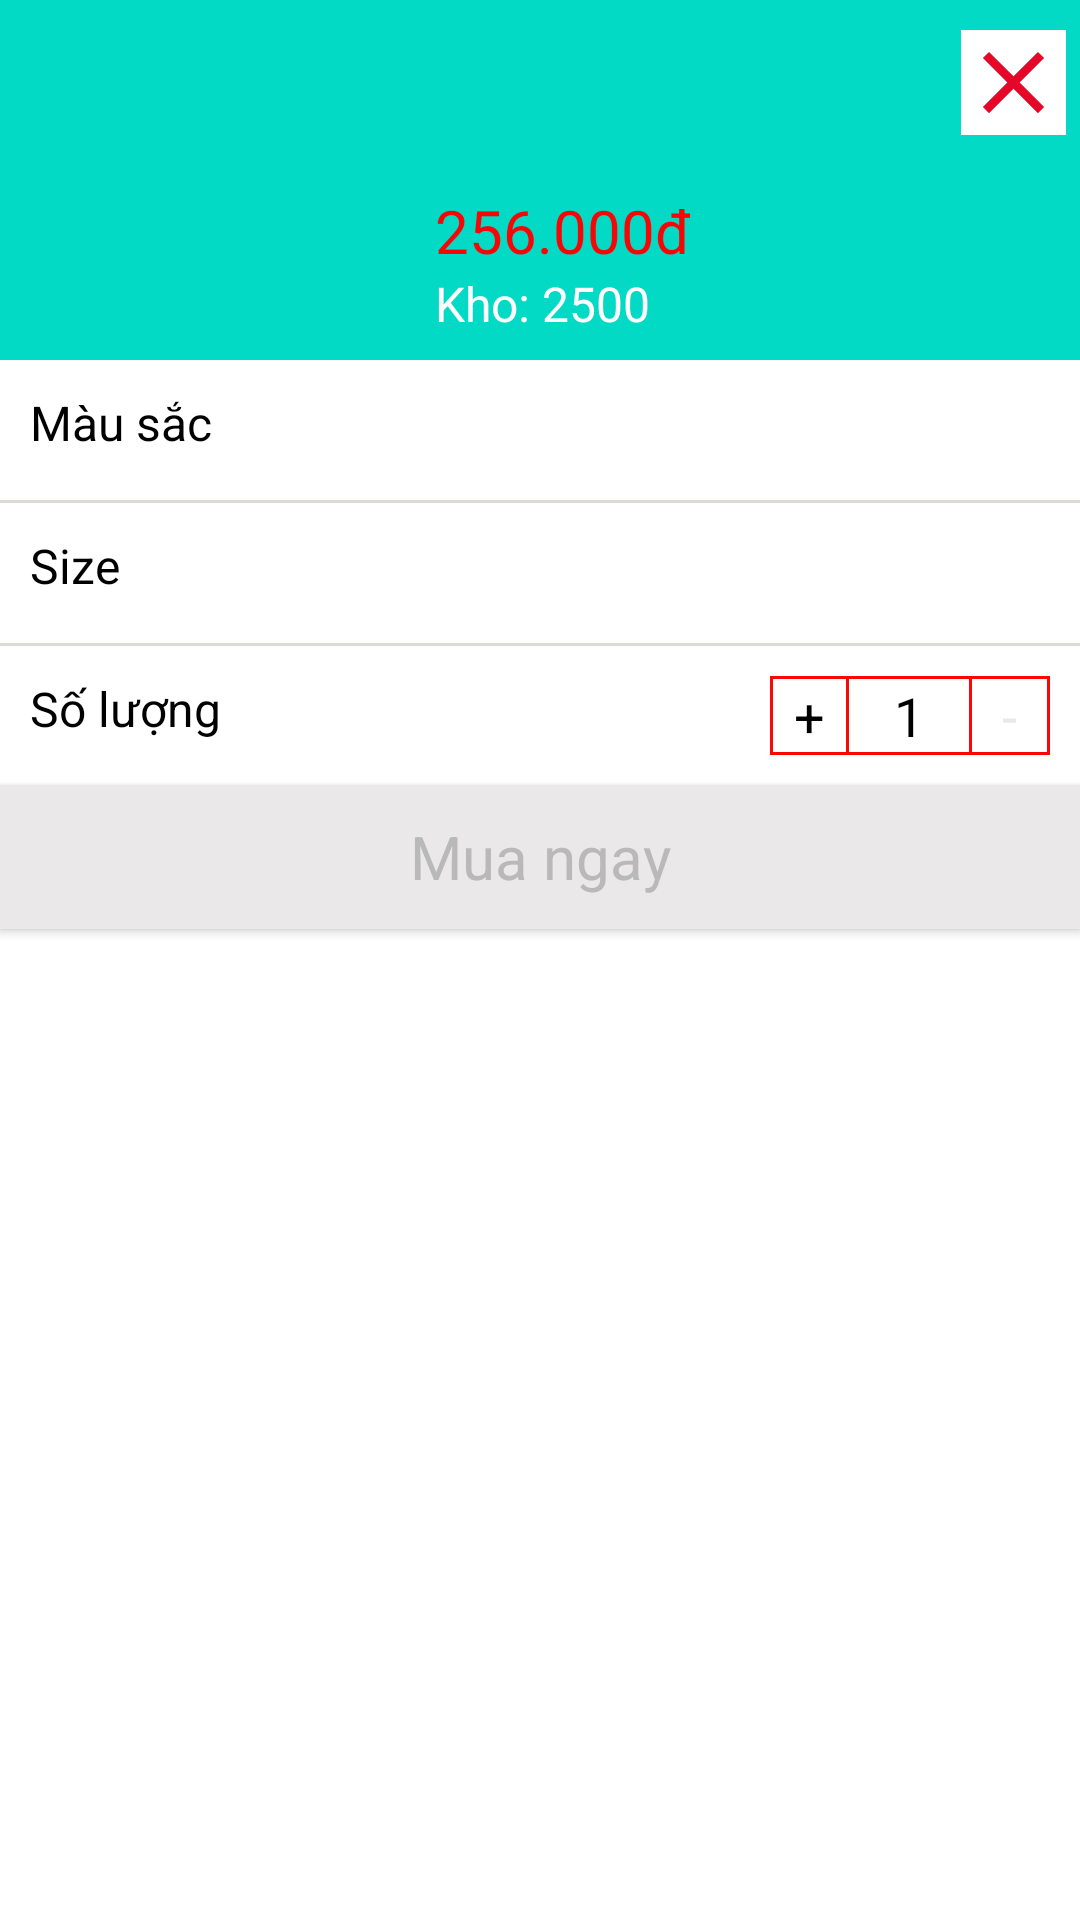

Screen size 1080×1920. Icon name, then its box in pixels as (x1, y1, x2, y2):
close: (961, 30, 1066, 135)
